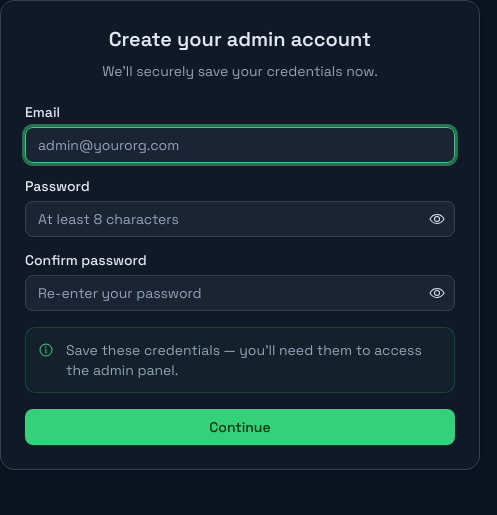
it: CreateAccountStep › shows validation error for short password
The width and height of the screenshot is (497, 515).
Type "admin@test.com" into the field labelled "Email" at (240, 145), box [25,127,455,163]
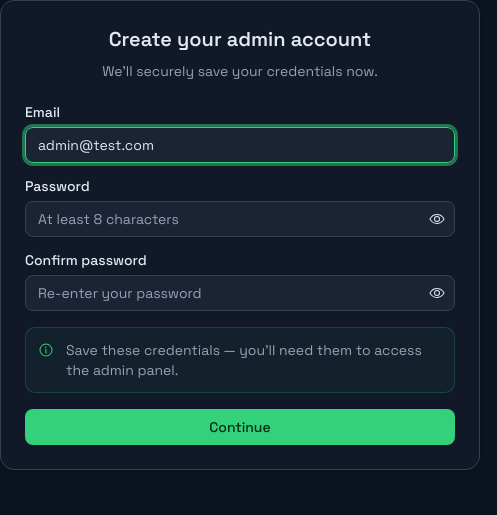
Type "short" into the password field labelled "Password" at (240, 219), box [25,201,455,237]
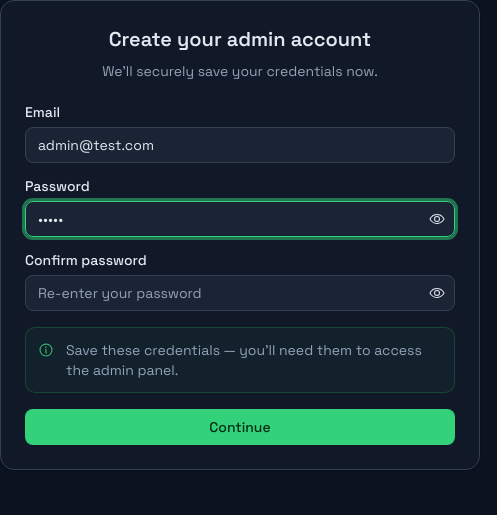
Type "short" into the password field labelled "Confirm password" at (240, 293), box [25,275,455,311]
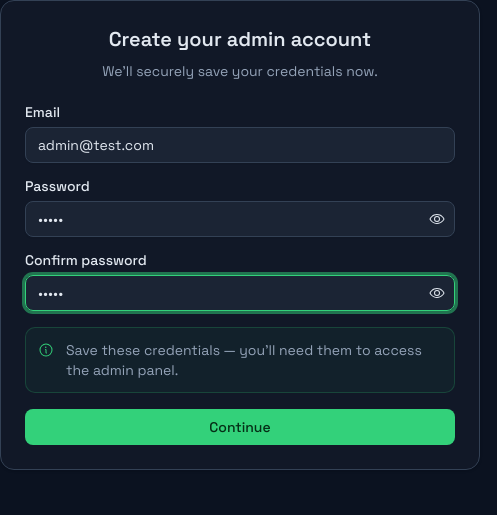
Click the button "Continue" at (240, 427), box [25,409,455,445]
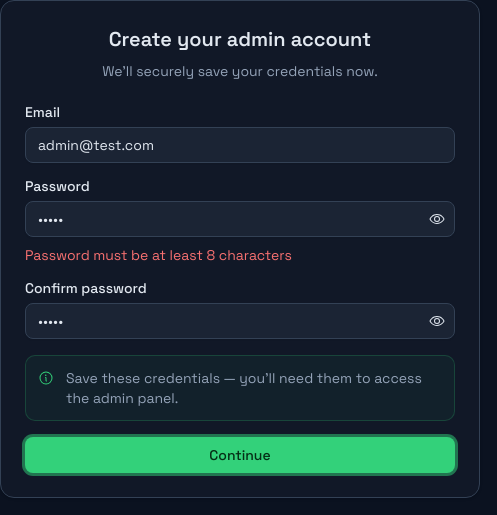
Expected: the text "Password must be at least 8 characters" is shown, [25,246,292,264]
